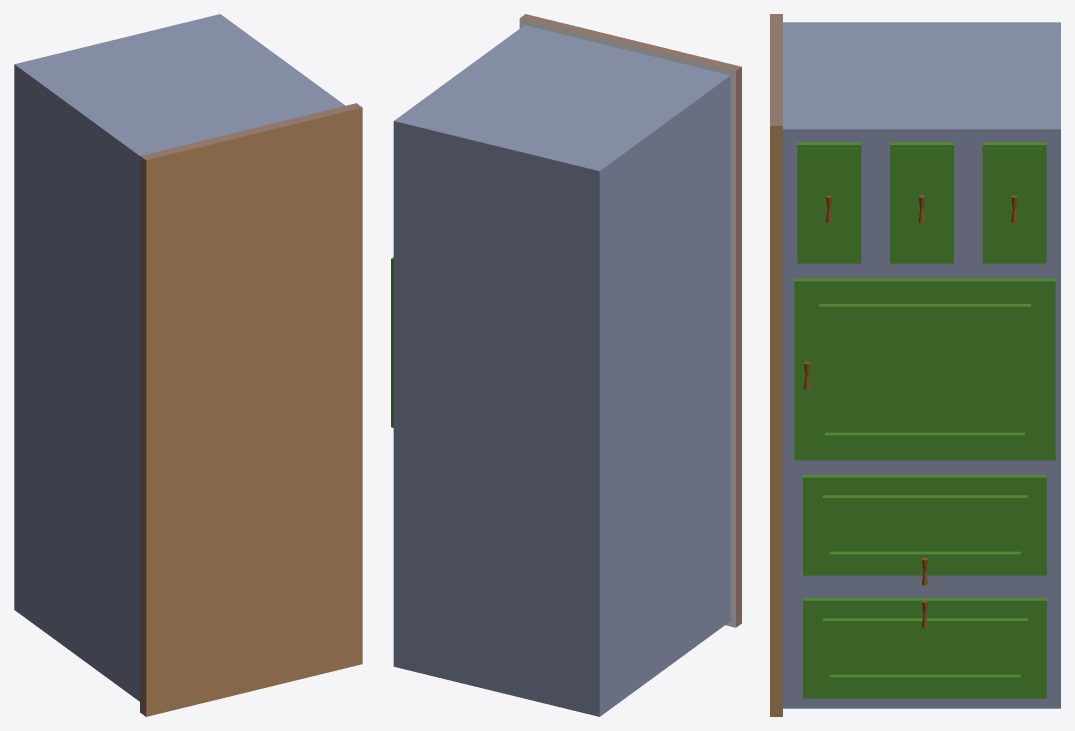
Rendered from MueblesCocina1.fbx.
The picture shows the model from 3 angles, left to right: view 1: azimuth 30°, elevation 25°; view 2: azimuth 150°, elevation 25°; view 3: azimuth 270°, elevation 25°; orthographic projection. The views are drawn at different scales.
Visible parts, largest first — view 1: Model; view 2: Model; view 3: Model.
Part boxes in pixels (x1,y1,x2,y2): Model: [14, 14, 362, 716]; Model: [391, 14, 741, 716]; Model: [770, 14, 1060, 716].
Bounding box in the file's own units: 0.875 × 2.04 × 0.91.
